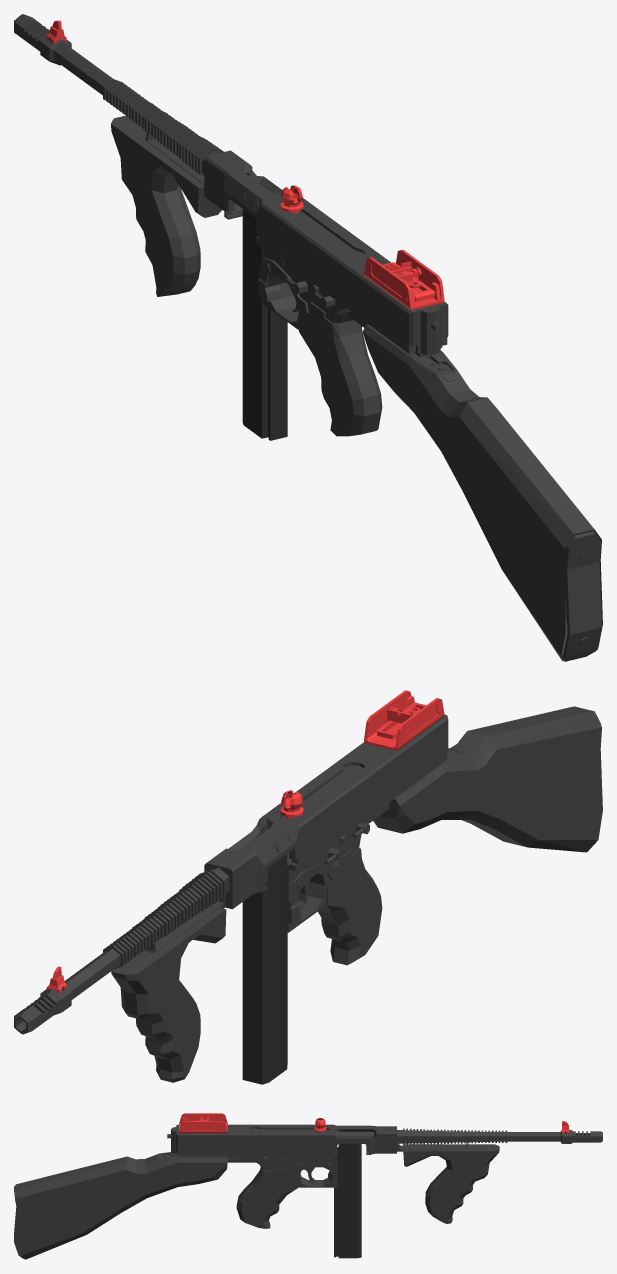
Rendered from subfusil_4.glb.
3 views of the same model, one above another, from view 1: azimuth 30°, elevation 25°; view 2: azimuth 150°, elevation 25°; view 3: azimuth 270°, elevation 25° (orthographic). The views are drawn at different scales.
Parts seen in each view (by area): view 1: p62_paint, p37_paint, p7_paint, p77_mag, p53_paint, p74_paint, p44_paint, p61_del, p3_paint, p51_paint, p0_paint, p43_paint; view 2: p62_paint, p37_paint, p77_mag, p7_paint, p53_paint, p61_del, p44_paint, p3_paint, p0_paint, p51_paint, p43_paint, p17_paint (+2 smaller); view 3: p62_paint, p37_paint, p7_paint, p77_mag, p53_paint, p3_paint, p44_paint, p61_del, p51_paint, p0_paint, p48_paint, p17_paint (+3 smaller).
Part boxes in pixels (box(x1,y1,x2,y2)): p62_paint: box(362, 324, 602, 661); p37_paint: box(204, 150, 448, 354); p7_paint: box(111, 115, 221, 296); p77_mag: box(242, 209, 287, 440); p53_paint: box(299, 302, 382, 436); p74_paint: box(561, 531, 602, 661); p44_paint: box(263, 248, 352, 329); p61_del: box(364, 249, 444, 310); p3_paint: box(53, 44, 218, 174); p51_paint: box(281, 252, 447, 353); p0_paint: box(14, 14, 71, 65); p43_paint: box(257, 258, 308, 315); p62_paint: box(373, 706, 602, 852); p37_paint: box(204, 714, 448, 909); p77_mag: box(242, 853, 287, 1084); p7_paint: box(111, 907, 226, 1082); p53_paint: box(318, 848, 382, 965); p61_del: box(364, 690, 444, 750); p44_paint: box(287, 814, 372, 932); p3_paint: box(64, 867, 229, 999); p0_paint: box(14, 988, 71, 1034); p51_paint: box(320, 751, 447, 852); p43_paint: box(288, 863, 340, 924); p17_paint: box(144, 896, 225, 953); p62_paint: box(15, 1152, 227, 1259); p37_paint: box(171, 1124, 396, 1156); p7_paint: box(403, 1144, 499, 1223); p77_mag: box(334, 1144, 361, 1258); p53_paint: box(236, 1167, 298, 1228); p3_paint: box(397, 1130, 560, 1143); p44_paint: box(243, 1150, 337, 1187); p61_del: box(179, 1113, 227, 1133); p51_paint: box(178, 1151, 311, 1156); p0_paint: box(560, 1130, 602, 1143); p48_paint: box(261, 1156, 322, 1167); p17_paint: box(397, 1142, 468, 1151).
Bounding box in the file's own units: 0.0362 × 0.2221 × 0.852.
